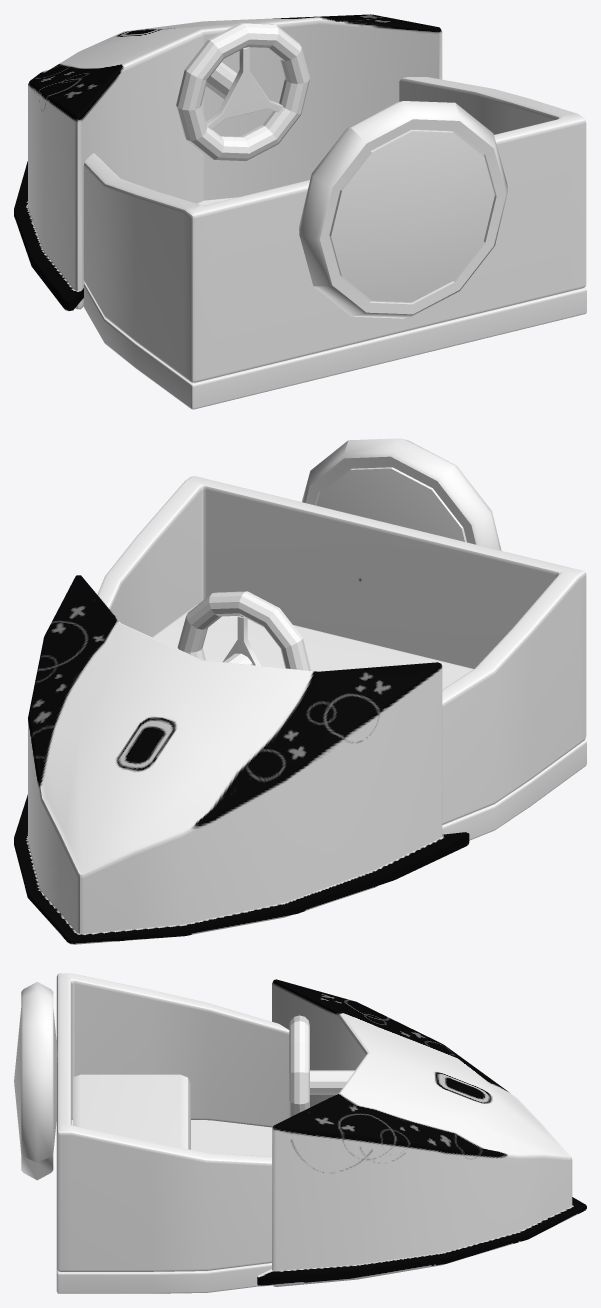
File: kart003.fbx
The picture shows the model from 3 angles, top to bottom: view 1: azimuth 30°, elevation 25°; view 2: azimuth 150°, elevation 25°; view 3: azimuth 270°, elevation 25°; orthographic projection. The views are drawn at different scales.
Parts seen in each view (by area): view 1: kart_combined_UV_OK; view 2: kart_combined_UV_OK; view 3: kart_combined_UV_OK.
Part boxes in pixels (x1,y1,x2,y2): kart_combined_UV_OK: [14, 14, 586, 409]; kart_combined_UV_OK: [14, 438, 586, 944]; kart_combined_UV_OK: [14, 973, 586, 1293].
Bounding box in the file's own units: 243 × 155 × 359.
